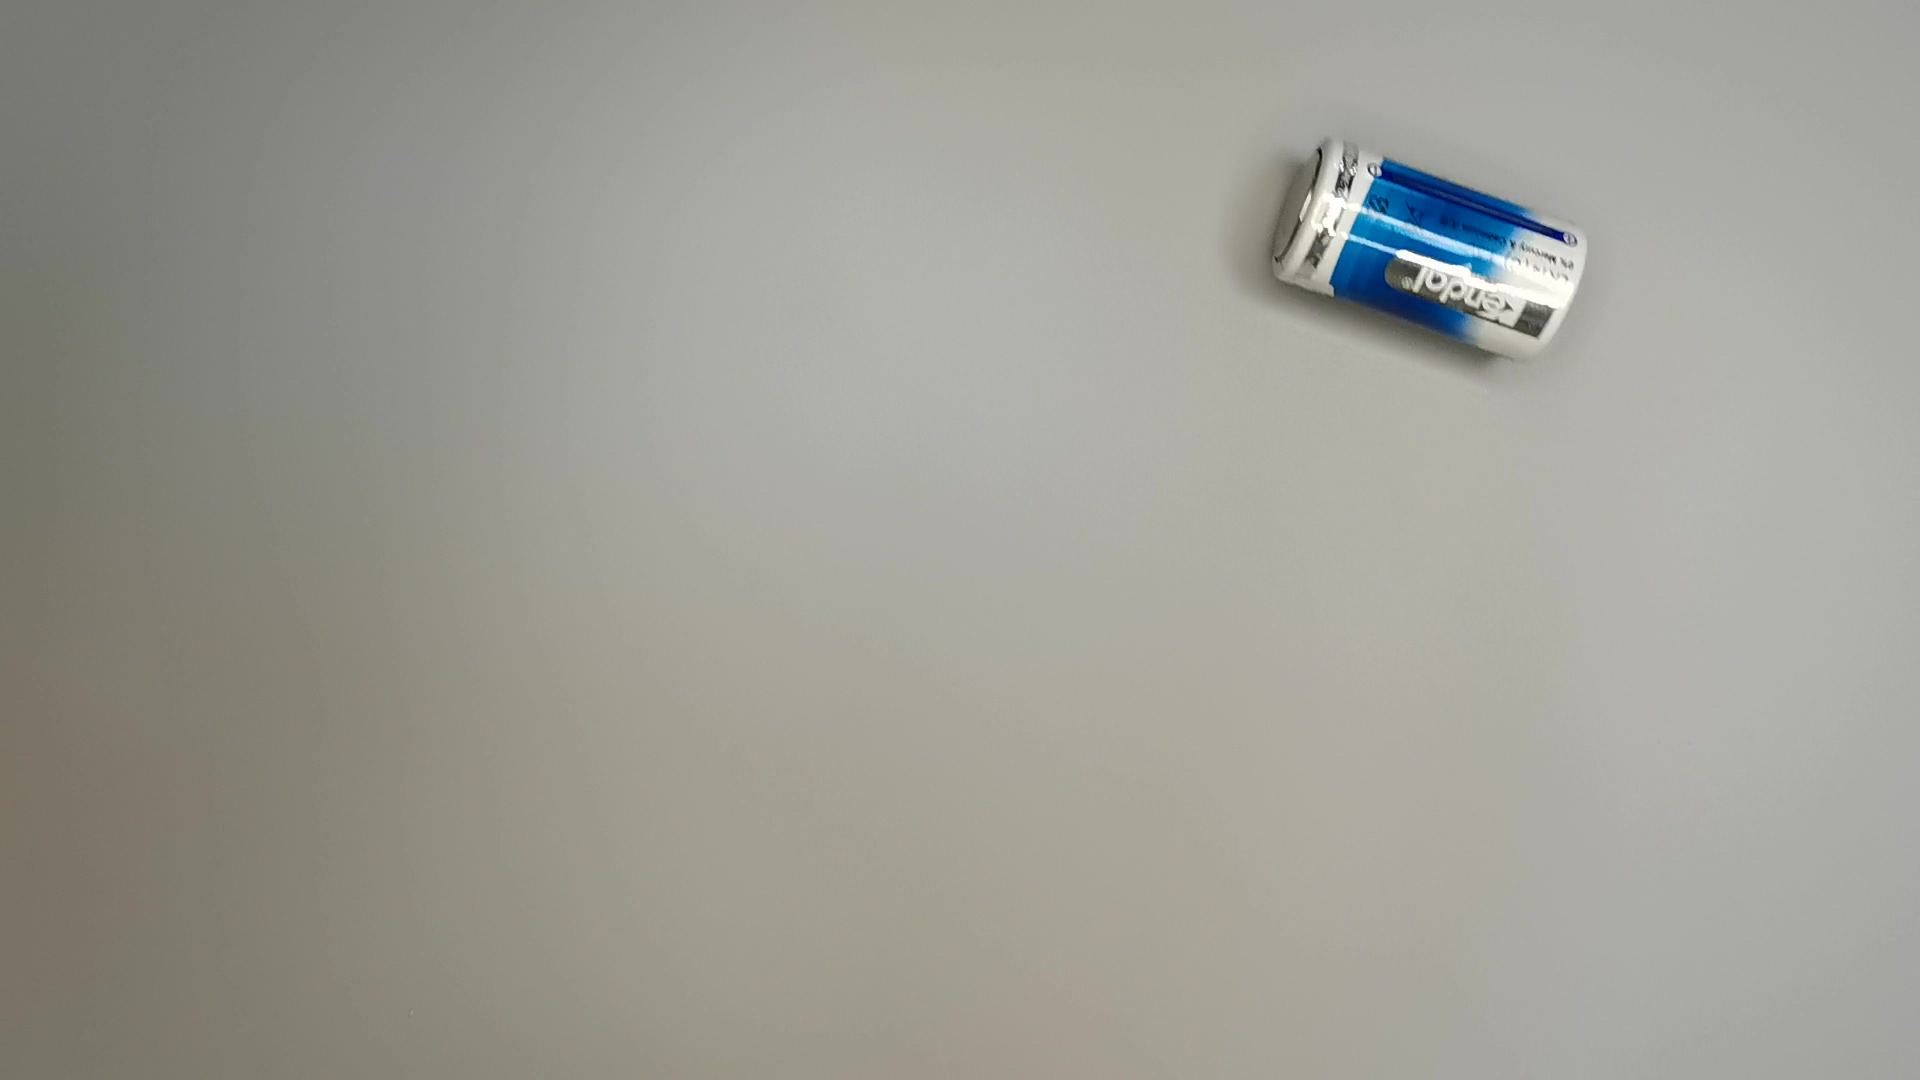battery: (1269, 131, 1592, 365)
